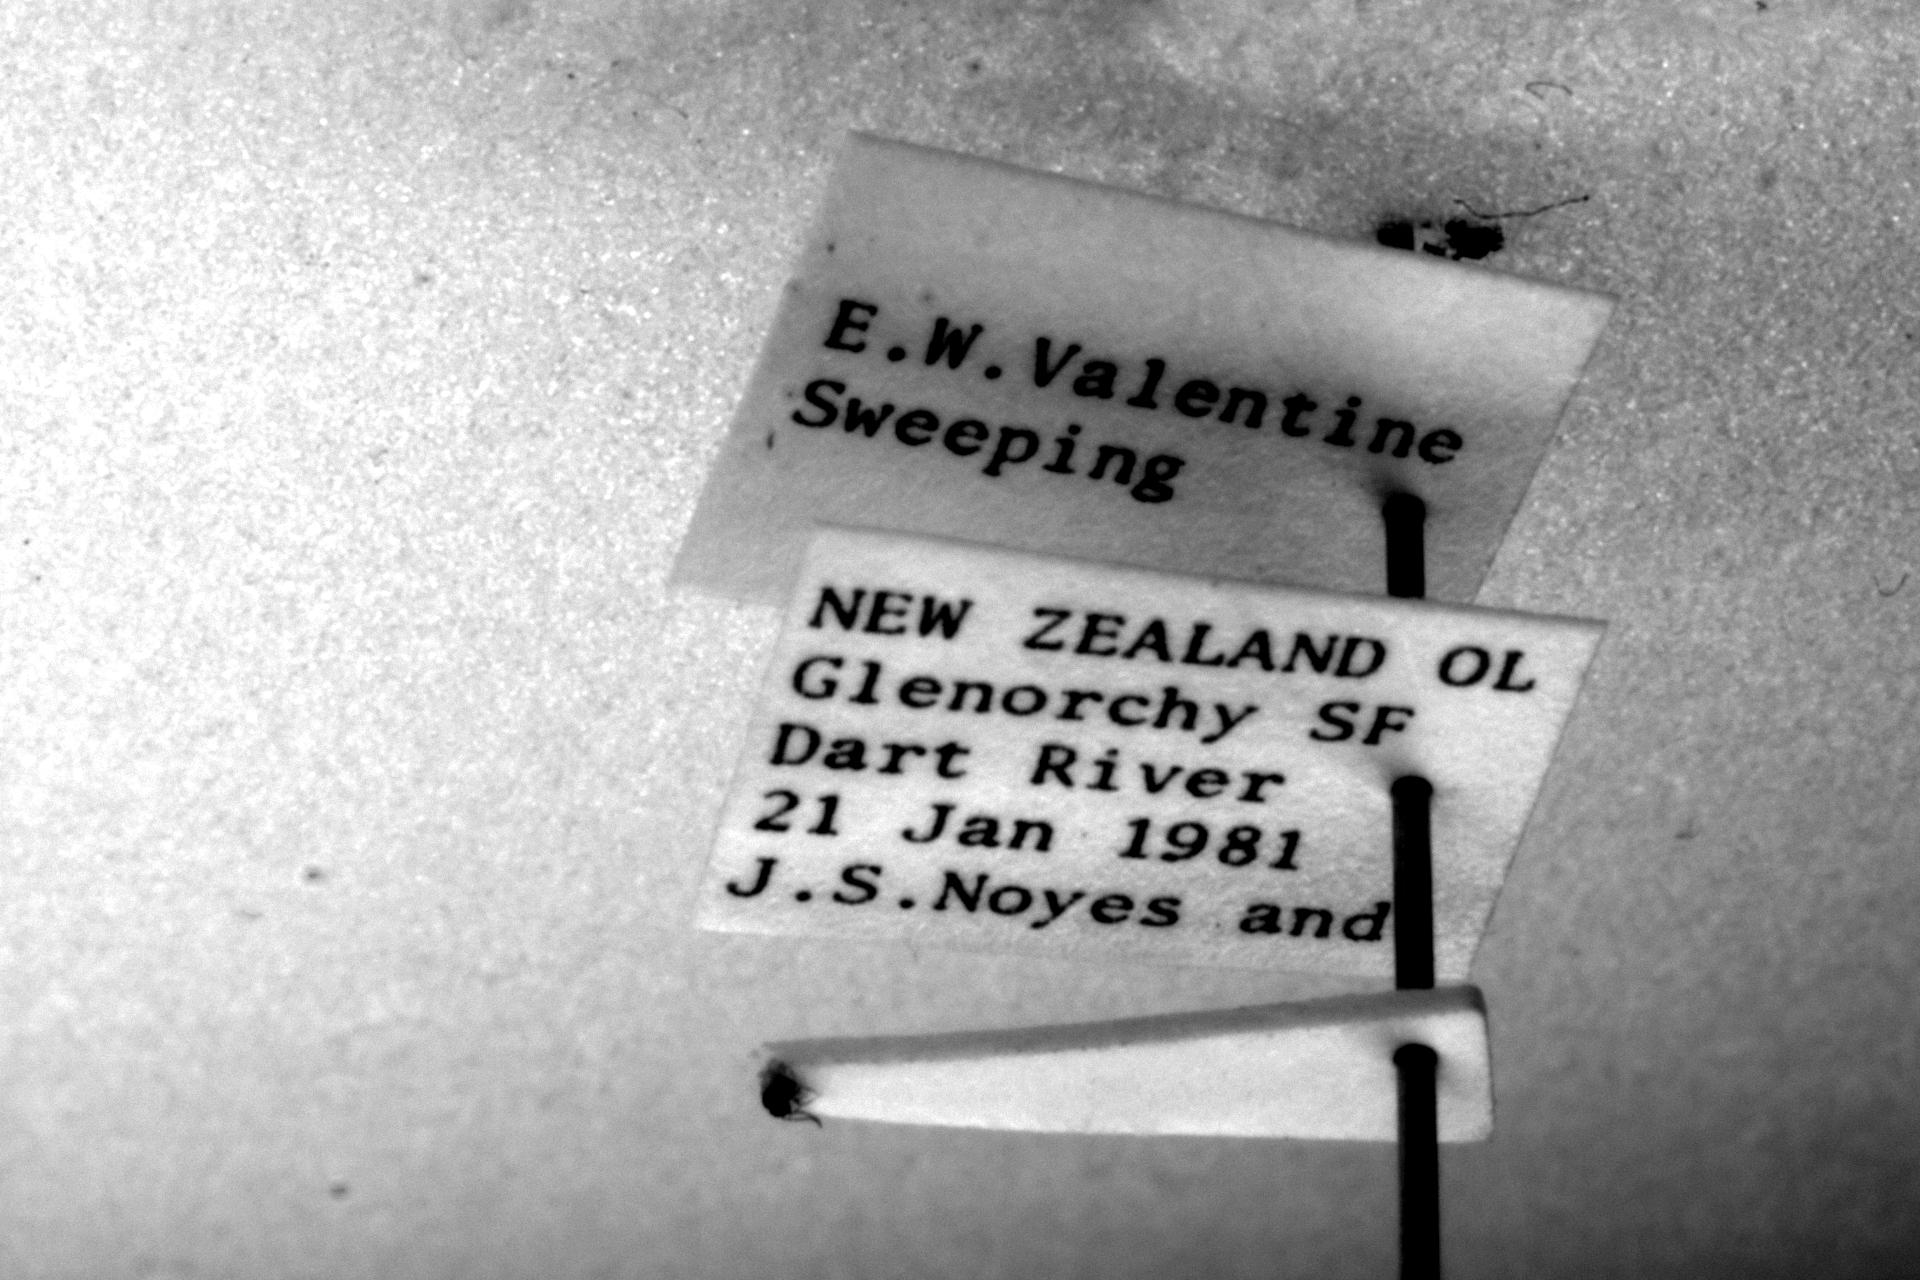typed_label: (674, 134, 1613, 604), (697, 529, 1601, 979)
